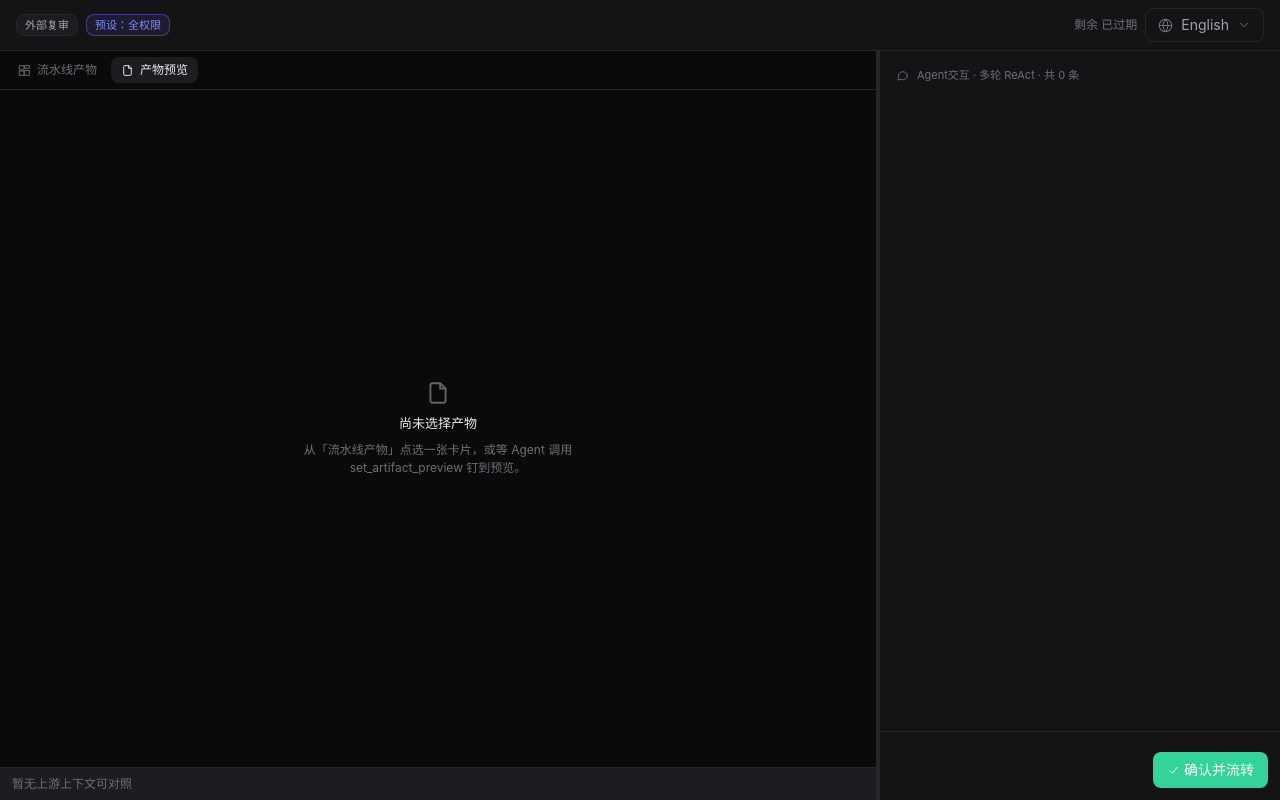
it: PublicGateApprovalView workbench › retries nonce only once then shows security footnote
Step 1. Click the button with test id "clarify-confirm-flow" → (1210, 770), box [1153, 752, 1268, 788]
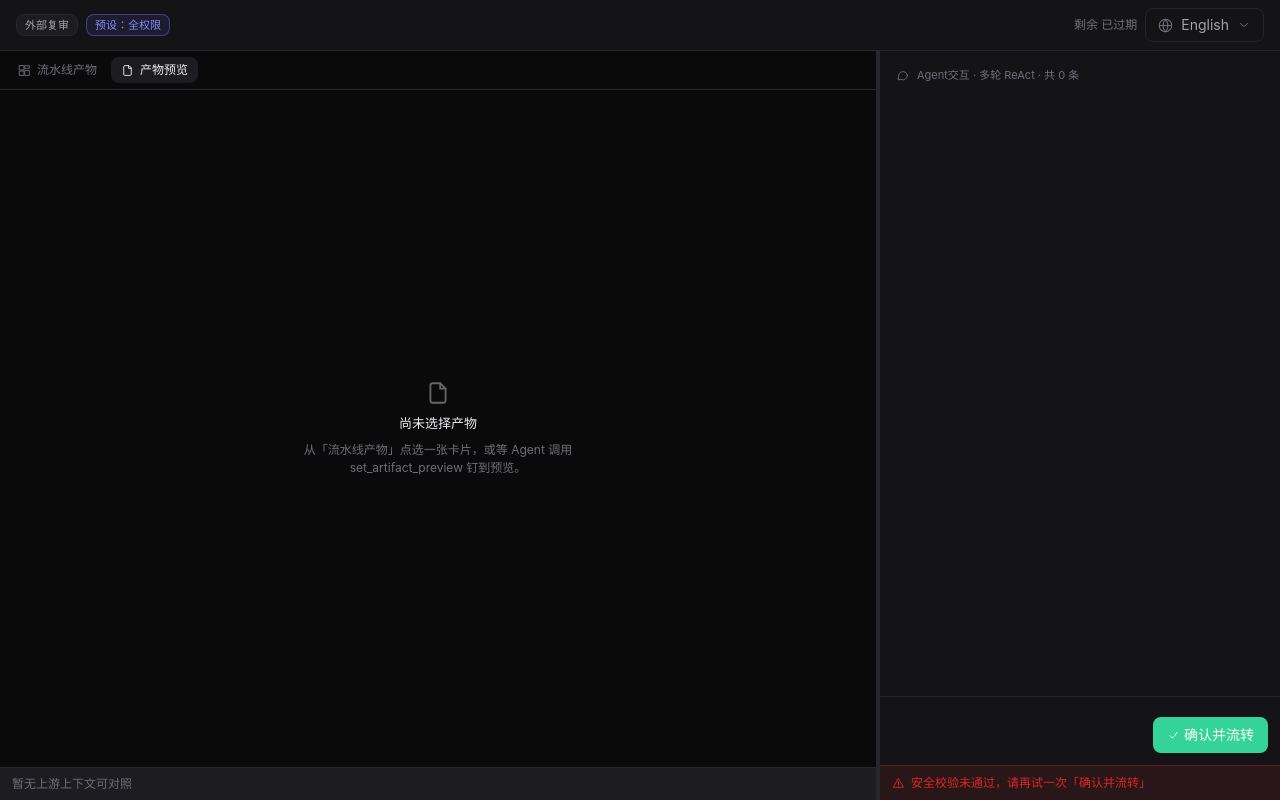
Expected: the button with test id "clarify-confirm-flow" is enabled, [1153, 717, 1268, 753]
Expected: the message with test id "clarify-confirm-error" reads "安全校验未通过，请再试一次「确认并流转」", [911, 775, 1151, 790]
